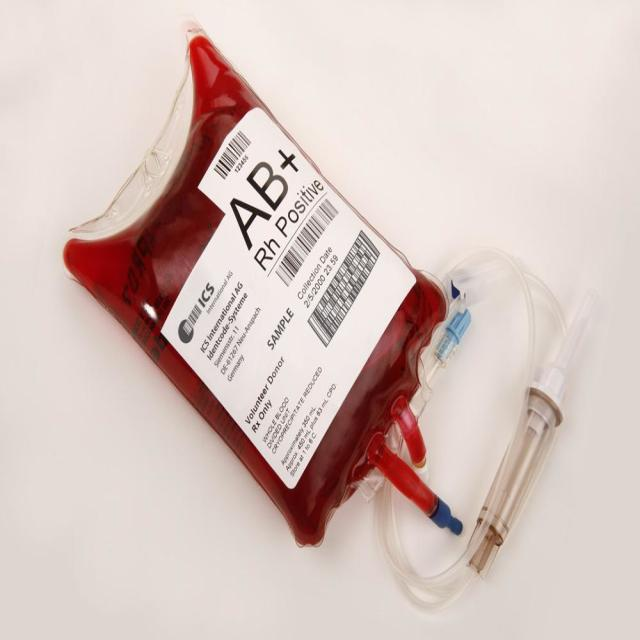B3: (45, 19, 452, 555)
